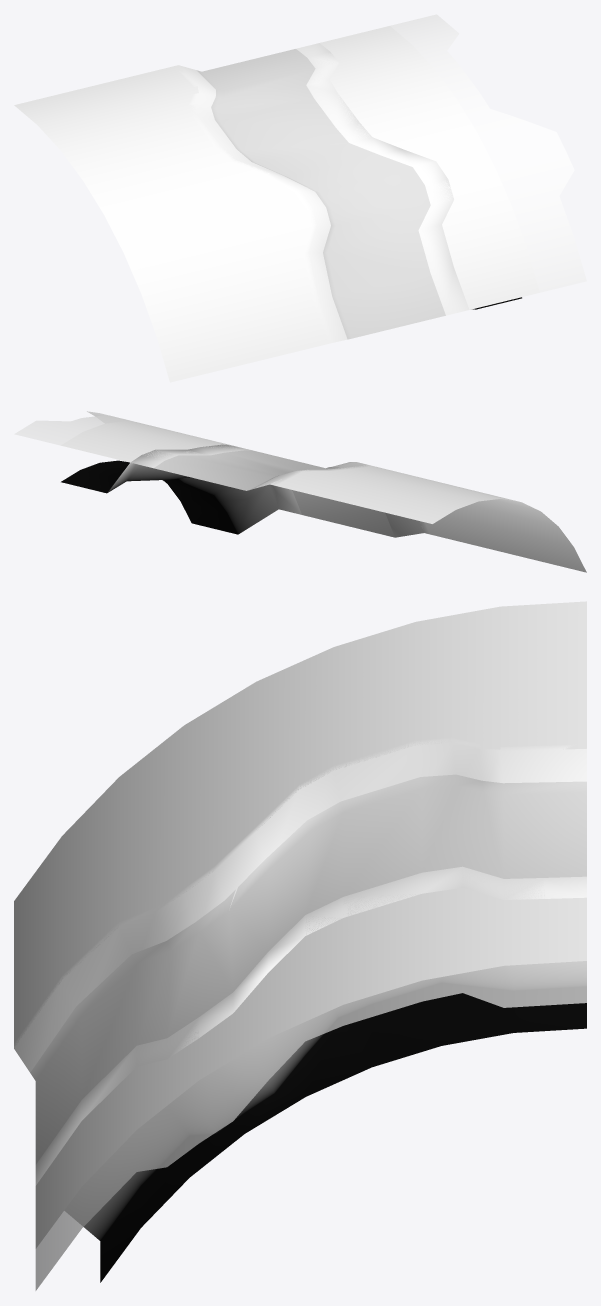
File: grd_Ie_2.dae
3 renders of one model, top to bottom at view 1: azimuth 30°, elevation 25°; view 2: azimuth 150°, elevation 25°; view 3: azimuth 270°, elevation 25°, orthographic. The views are drawn at different scales.
Visible parts, largest first — view 1: grd_Ie_2; view 2: grd_Ie_2; view 3: grd_Ie_2.
Part boxes in pixels (bbox=[...]): grd_Ie_2: bbox=[14, 14, 586, 382]; grd_Ie_2: bbox=[14, 411, 586, 572]; grd_Ie_2: bbox=[14, 601, 586, 1290].
Bounding box in the file's own units: 608 × 244 × 368.
Materials: 6 (1 with a texture image).
